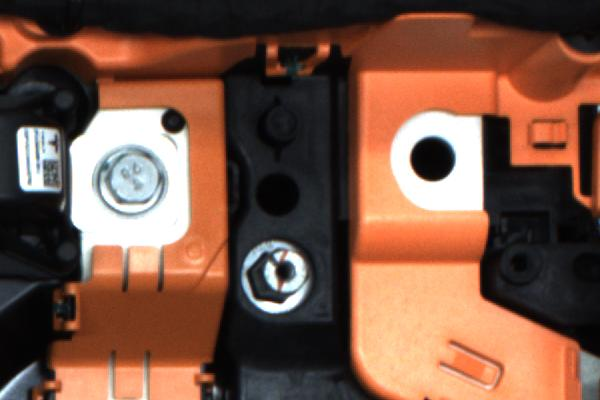nut_b: (90, 149, 173, 222)
